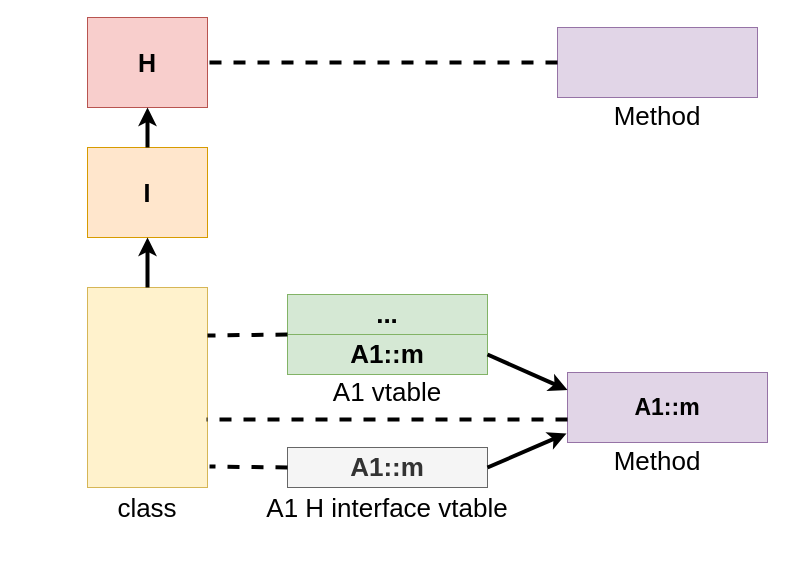
Image size: 785x566. Some labels were removed from this diagram. The shapes that lost their labels are listed below. From the top down, each one's centre as x and y in pixels, then its label:
the point at 657,62: H::m
the point at 147,387: A1
